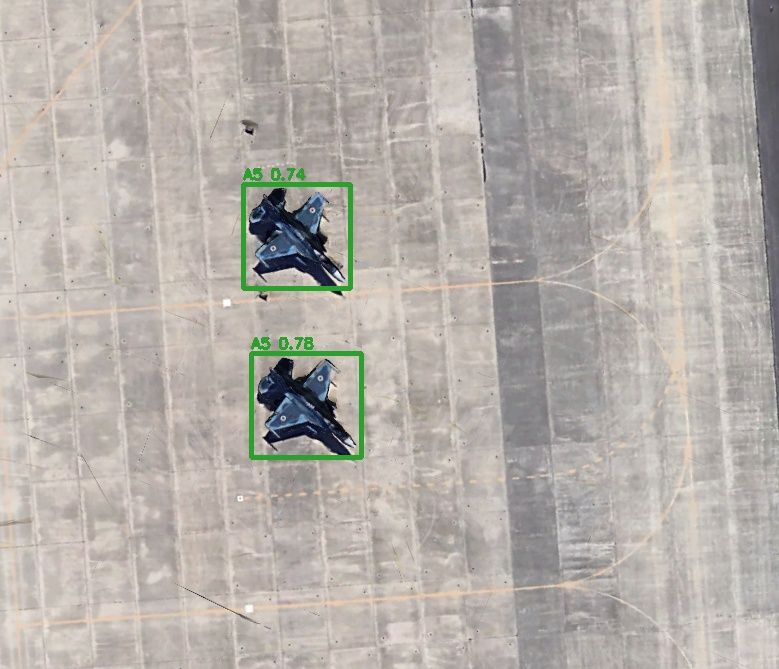A5: (251, 353, 361, 457), (243, 184, 350, 288)
